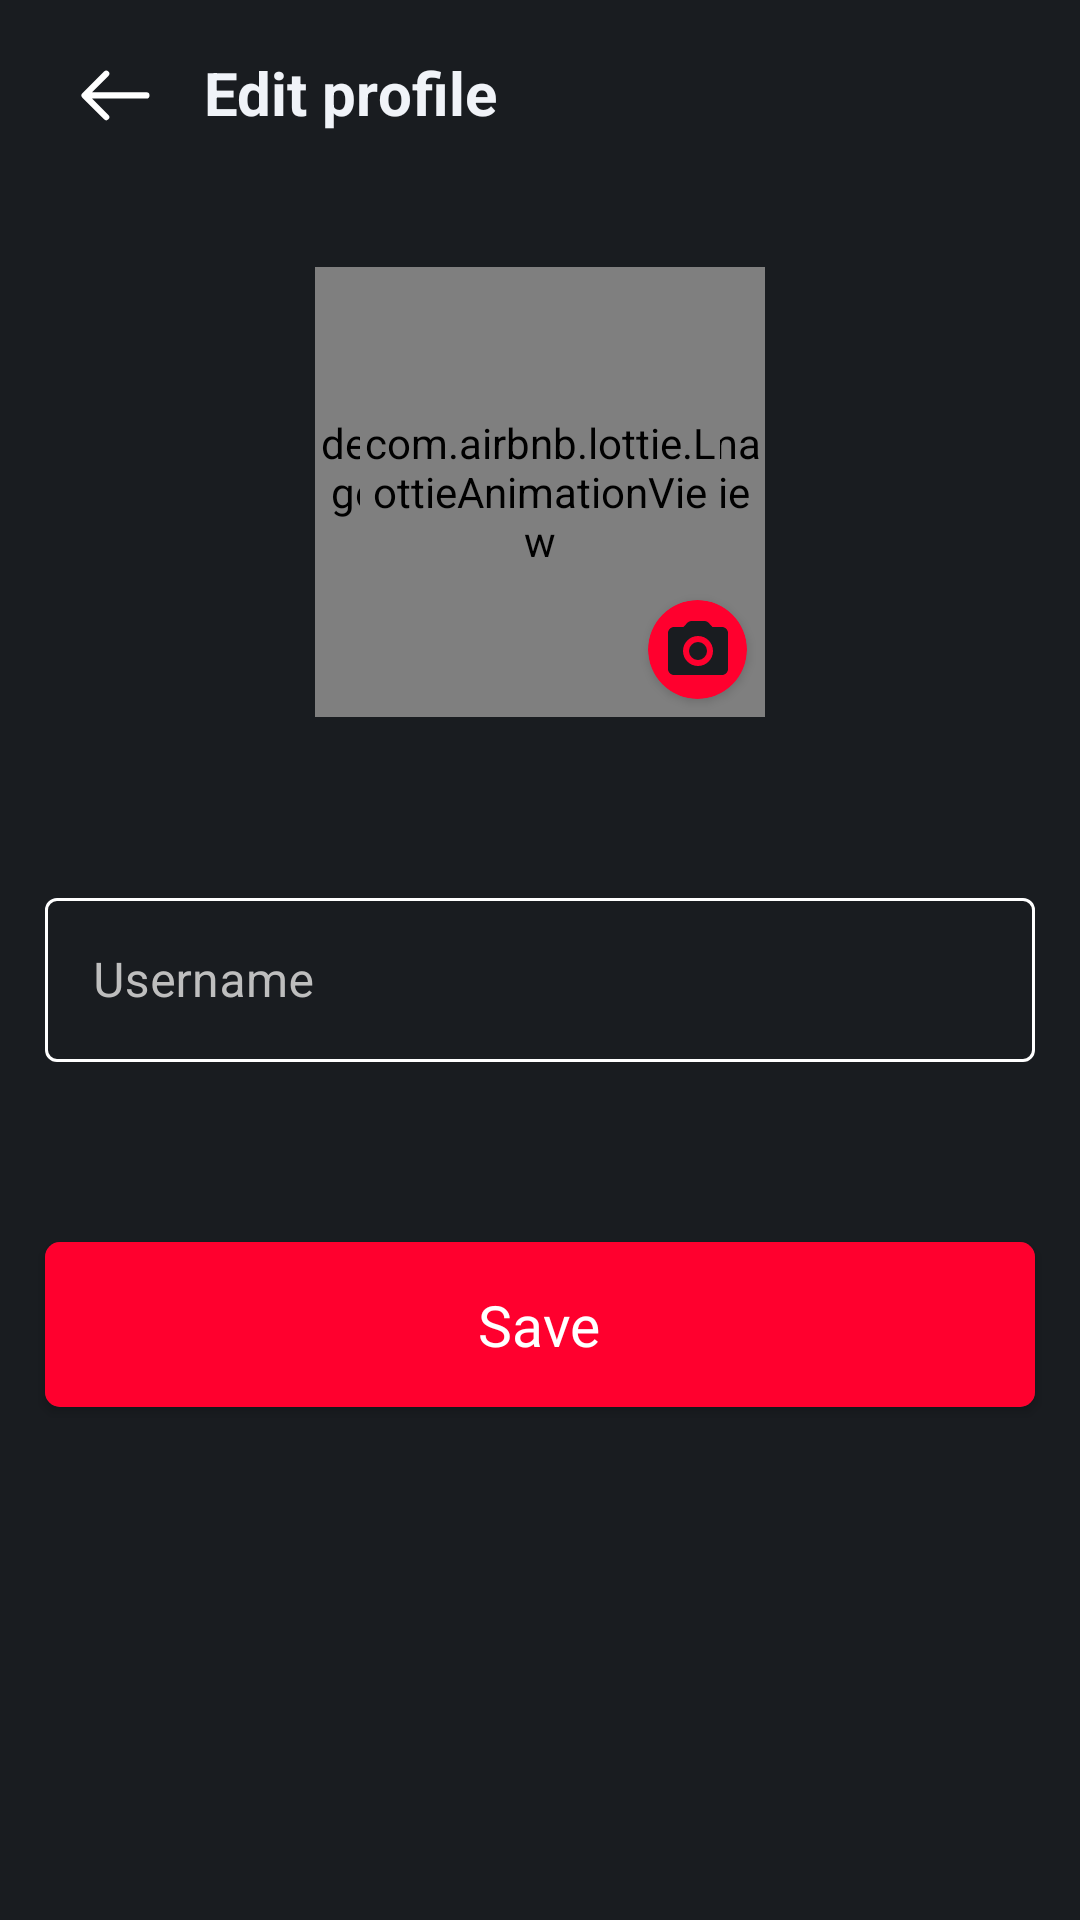

Icon bounding boxes for this 1080 × 1920 phone screenshot, format detection(x1, y1, x2, y2):
arrow back: detection(81, 70, 150, 121)
edit profile picture: detection(668, 621, 728, 675)
